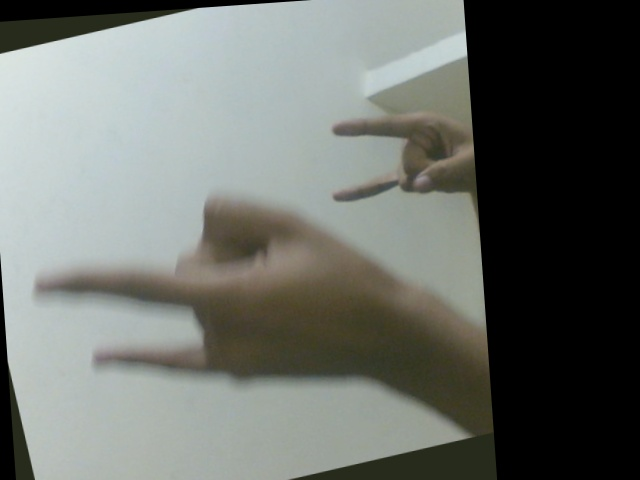hand: (26, 188, 396, 385), (328, 107, 476, 206)
